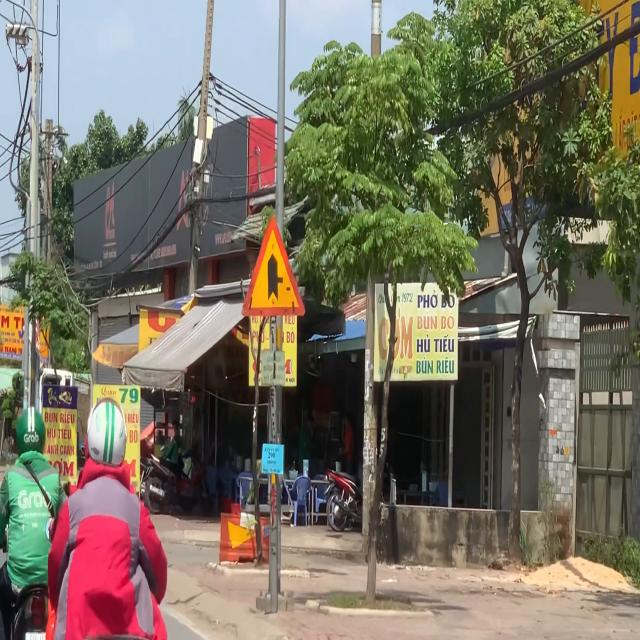Giao voi duong khong uu tien: (241, 212, 306, 316)
